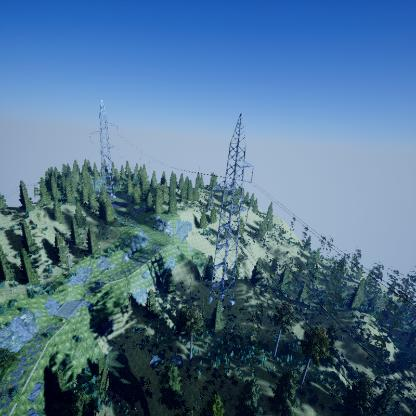tower: (207, 107, 259, 305), (85, 99, 119, 205)
